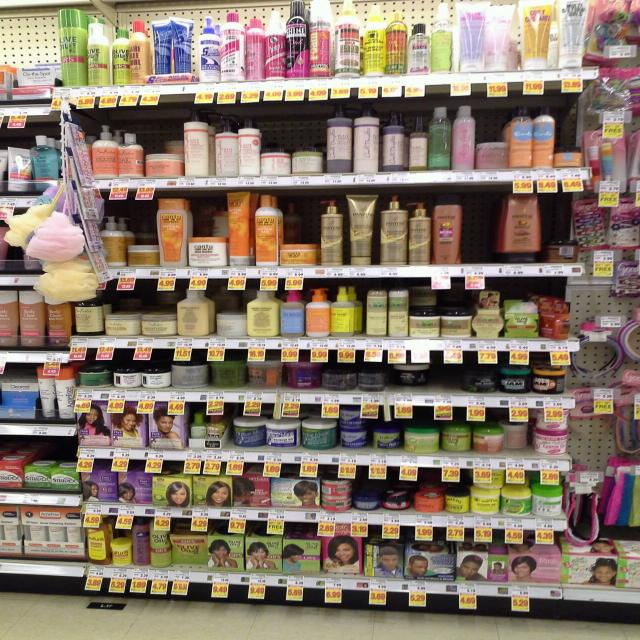void: (464, 189, 500, 279), (431, 362, 458, 408)
